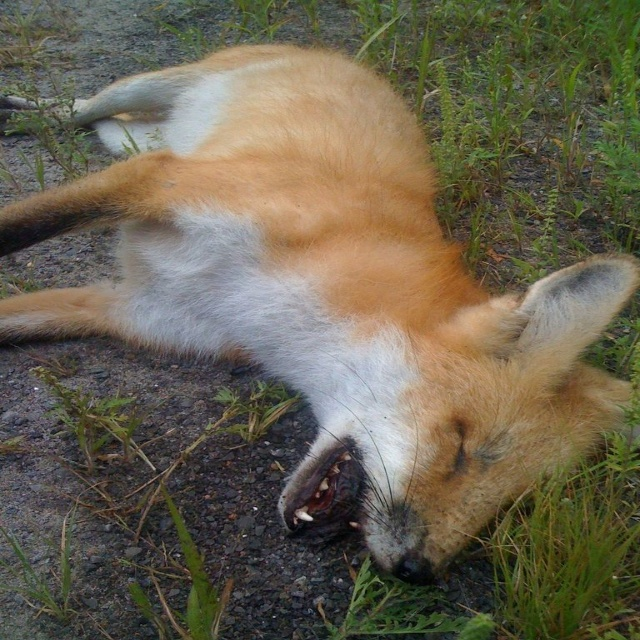Fox: (0, 36, 639, 585)
